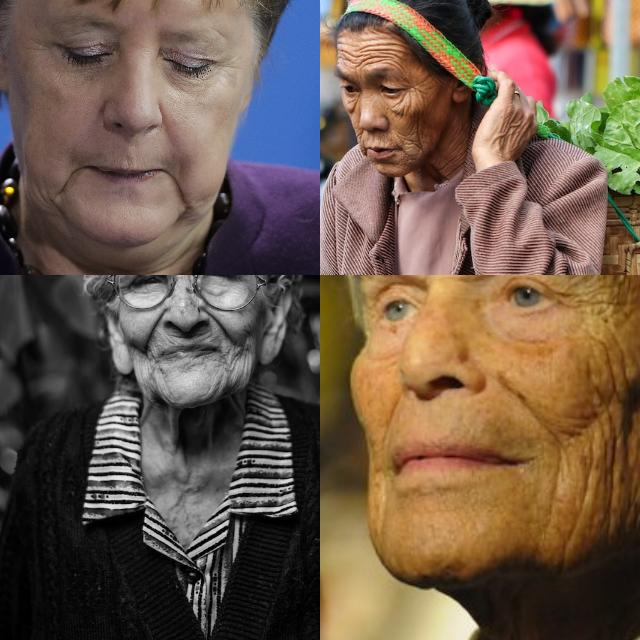crows_feet: (558, 278, 628, 324), (24, 38, 56, 58), (218, 56, 238, 85), (405, 81, 423, 103)
forehead: (336, 41, 399, 65)
gummy_smile: (492, 371, 540, 414), (376, 391, 404, 434), (205, 306, 238, 338), (145, 308, 167, 352)
masseter: (578, 445, 626, 517), (588, 364, 636, 431), (29, 178, 51, 216), (407, 122, 428, 156), (230, 351, 252, 381), (144, 366, 166, 396)
sad_smile: (166, 168, 188, 202), (56, 167, 76, 200)
